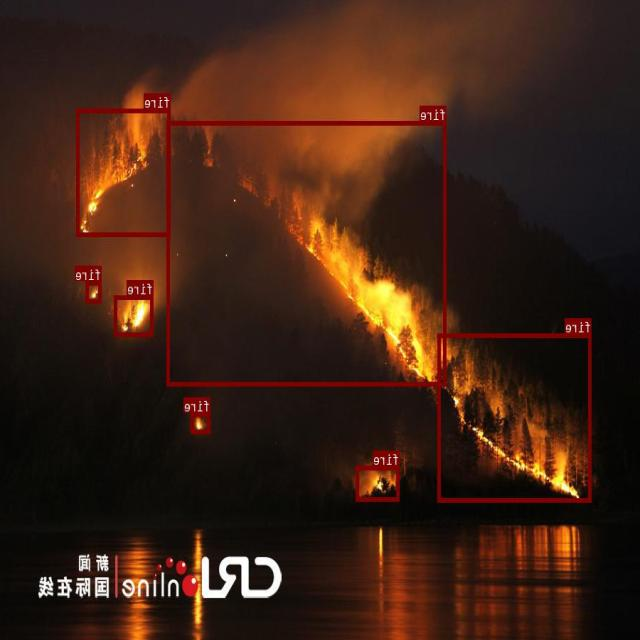fire: (168, 121, 447, 385), (438, 333, 592, 502), (77, 108, 172, 236), (115, 295, 154, 336), (357, 465, 400, 501), (192, 412, 211, 433), (86, 281, 102, 302)
